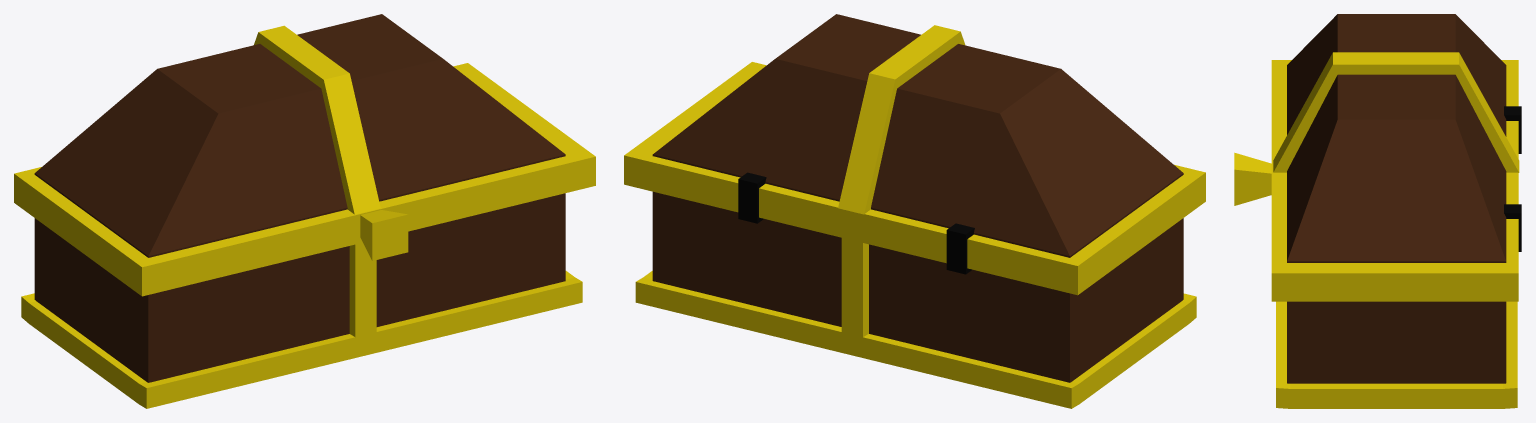
Rendered from Chest.fbx.
3 views of the same model, side by side, from view 1: azimuth 30°, elevation 25°; view 2: azimuth 150°, elevation 25°; view 3: azimuth 270°, elevation 25° (orthographic). The views are drawn at different scales.
Visible parts, largest first — view 1: Cube.001, Cube.002; view 2: Cube.001, Cube.002; view 3: Cube.001, Cube.002.
Part boxes in pixels (x1=…): Cube.001: x1=14, y1=14, x2=595, y2=296; Cube.002: x1=21, y1=154, x2=582, y2=408; Cube.001: x1=624, y1=14, x2=1205, y2=295; Cube.002: x1=635, y1=154, x2=1196, y2=408; Cube.001: x1=1234, y1=14, x2=1519, y2=301; Cube.002: x1=1276, y1=106, x2=1521, y2=408.
Bounding box in the file's own units: 475 × 258 × 270.
